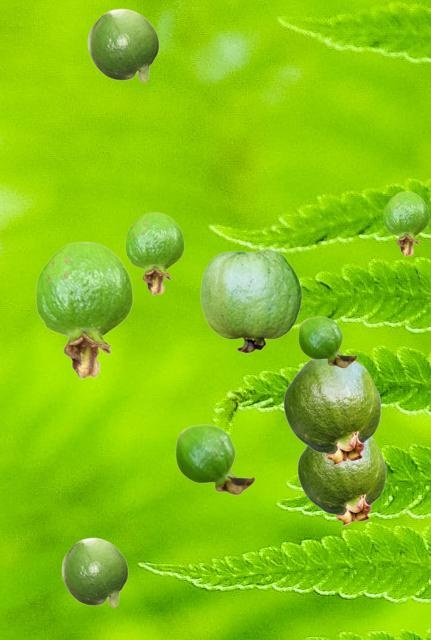guava: (35, 241, 132, 378), (200, 249, 301, 352), (283, 359, 380, 465), (297, 437, 385, 525), (175, 424, 254, 494), (87, 8, 158, 82), (125, 212, 183, 294), (61, 537, 127, 607), (298, 316, 356, 367), (383, 191, 428, 255)
